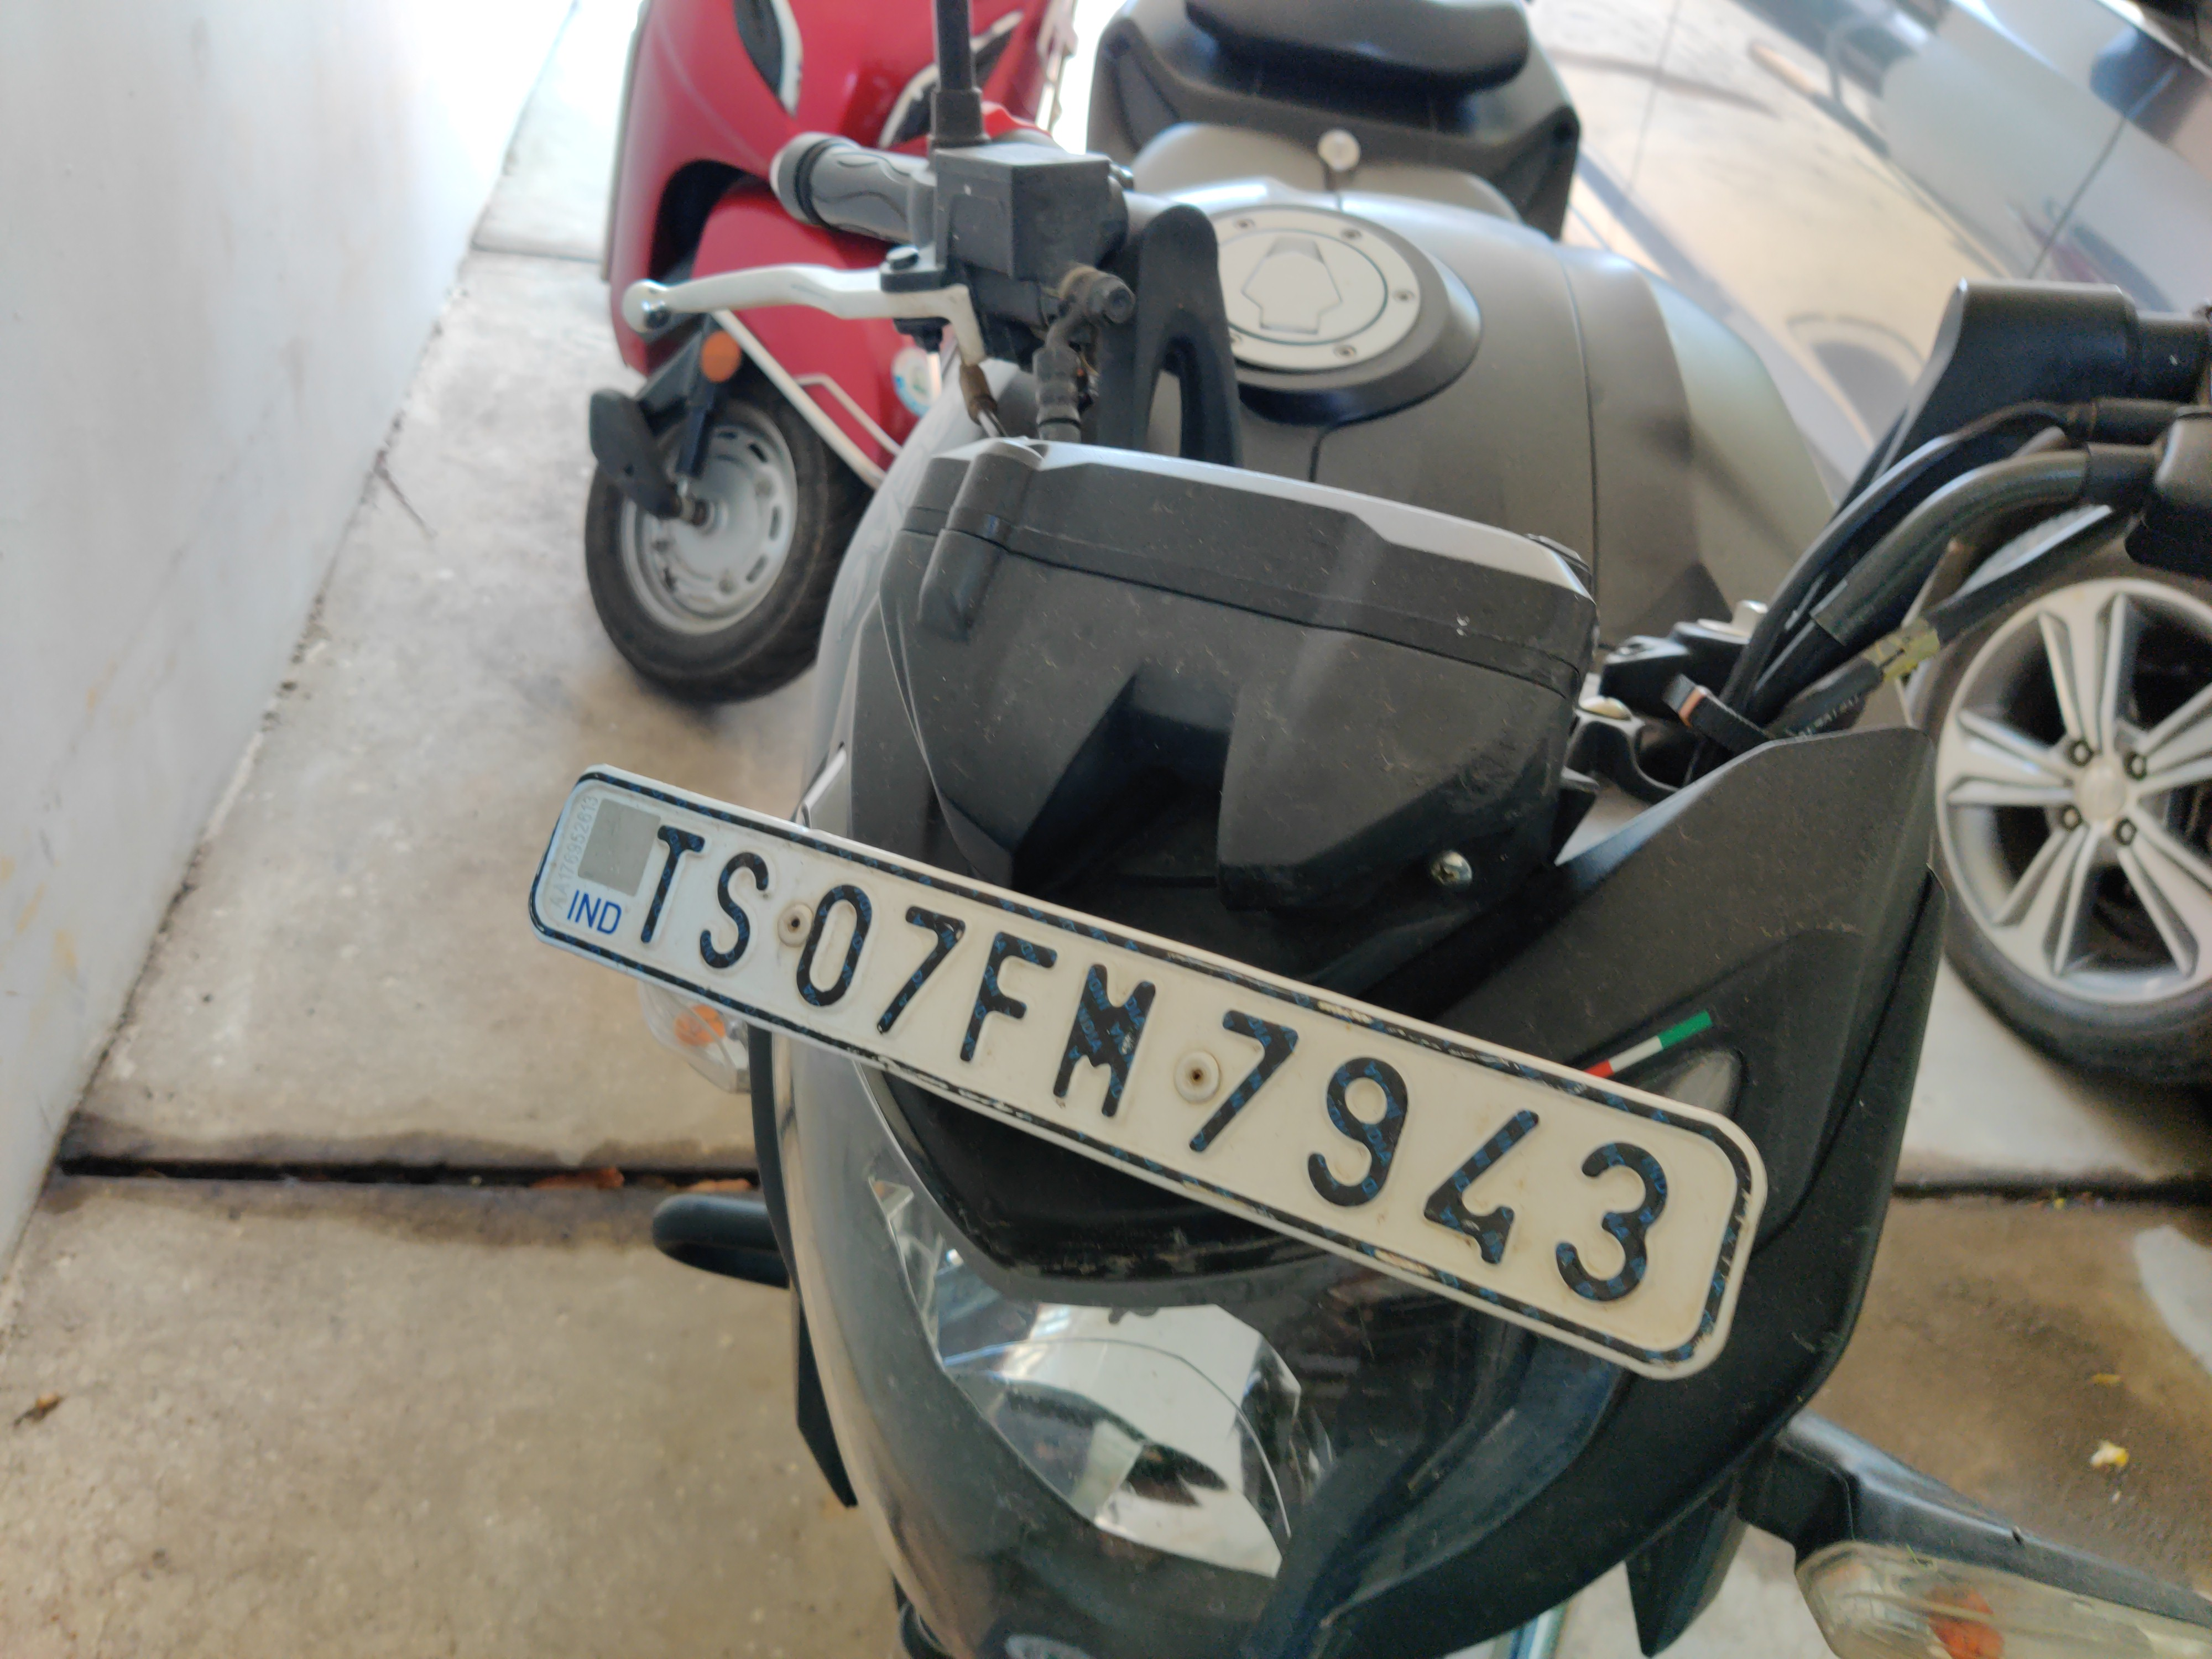plate: (512, 762, 1811, 1412)
